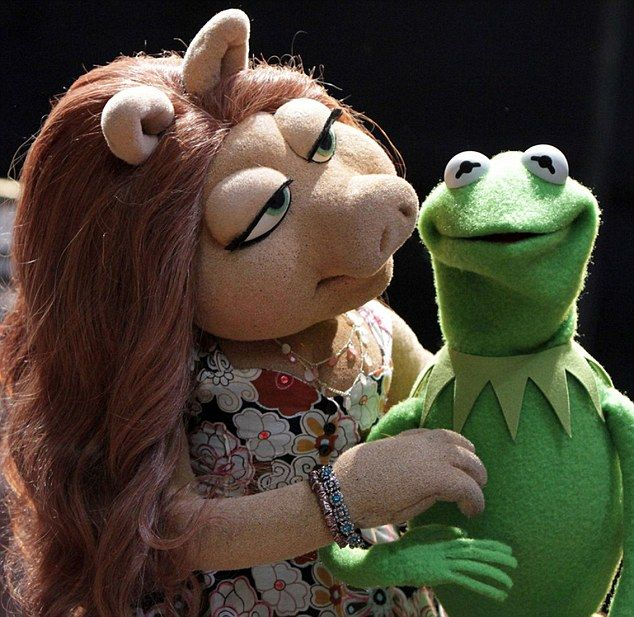kermit: (417, 141, 608, 350)
